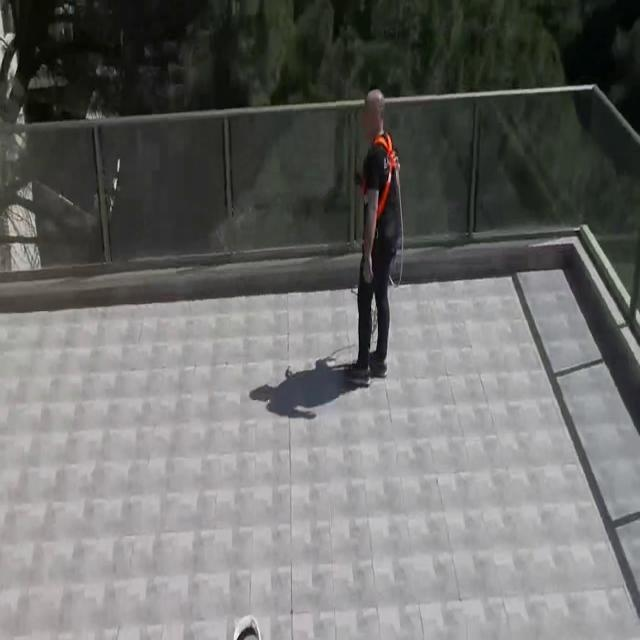Arnes_seguridad: (369, 136, 405, 234)
